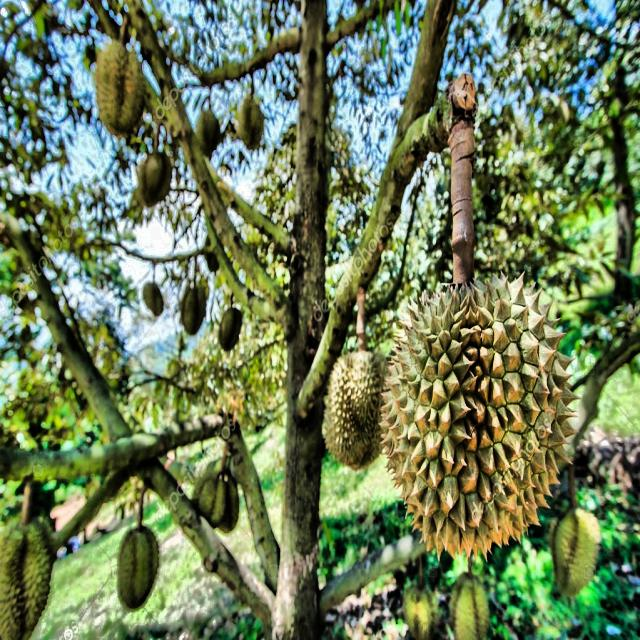arvore: (258, 0, 340, 640)
